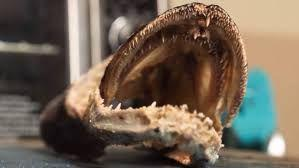Snakehead: (60, 3, 259, 162)
